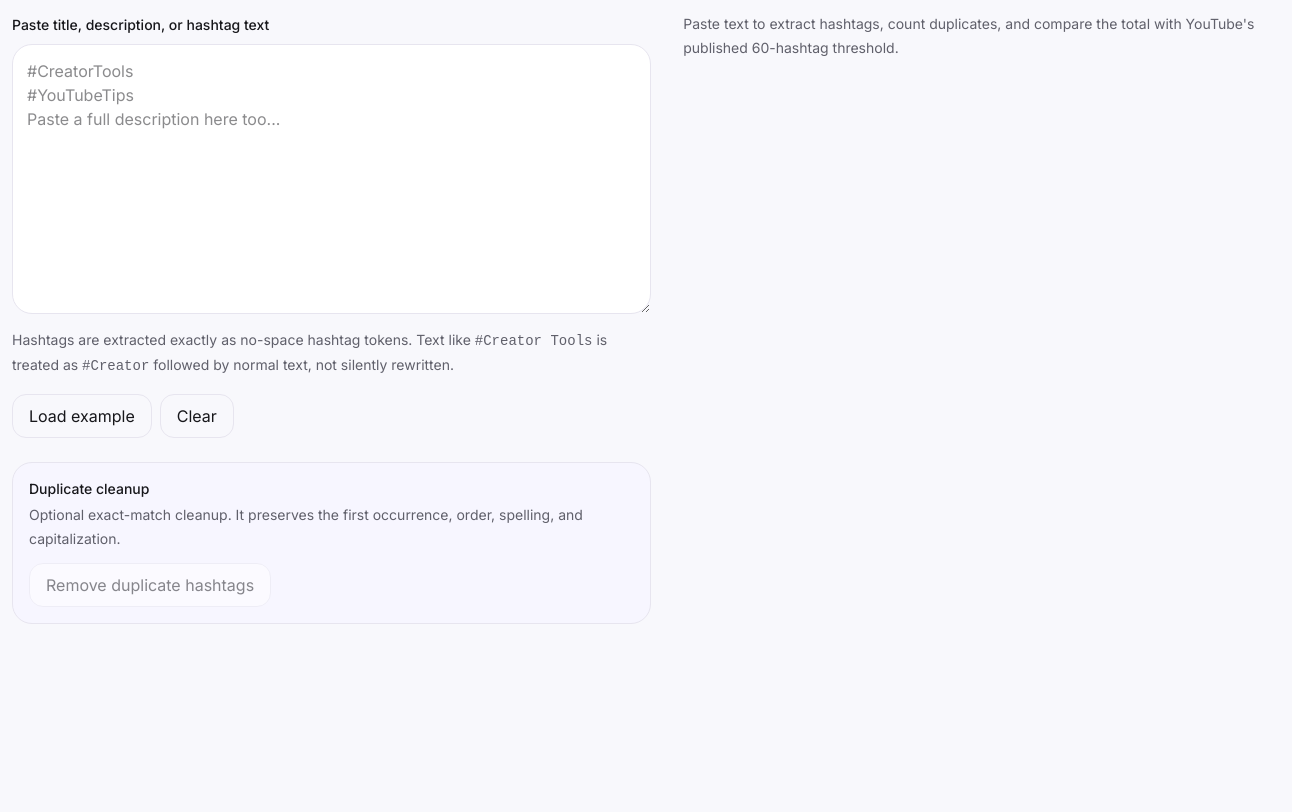
it: YoutubeHashtagChecker › renders empty and no-hashtag states as neutral
The width and height of the screenshot is (1292, 812).
Expected: the text "Paste text to extract hashtags" is shown, [683,15,1254,56]
Replace the text in the text box labelled "Paste title, description, or hashtag text" with "plain title and description" at point(332, 179), box [12,44,651,314]
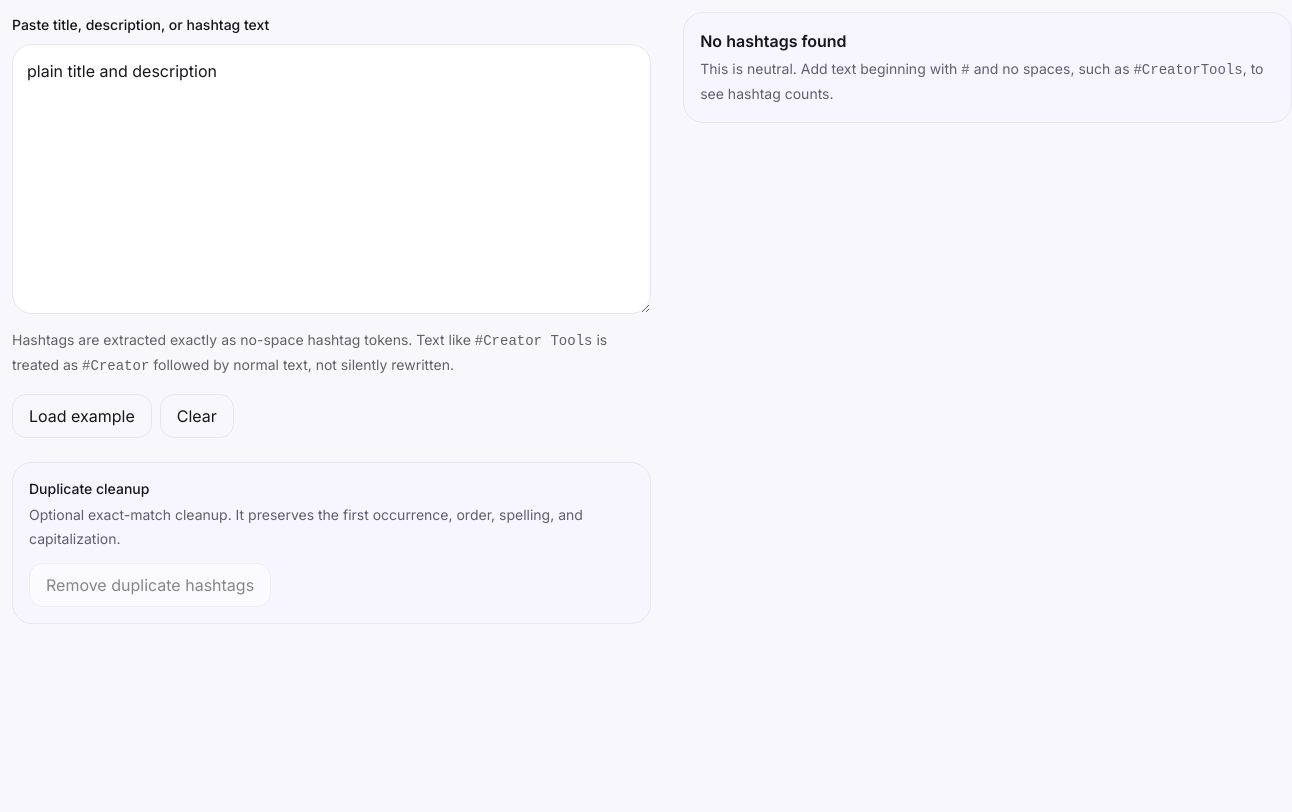
Expected: the text "No hashtags found" is shown, [700,31,847,51]
